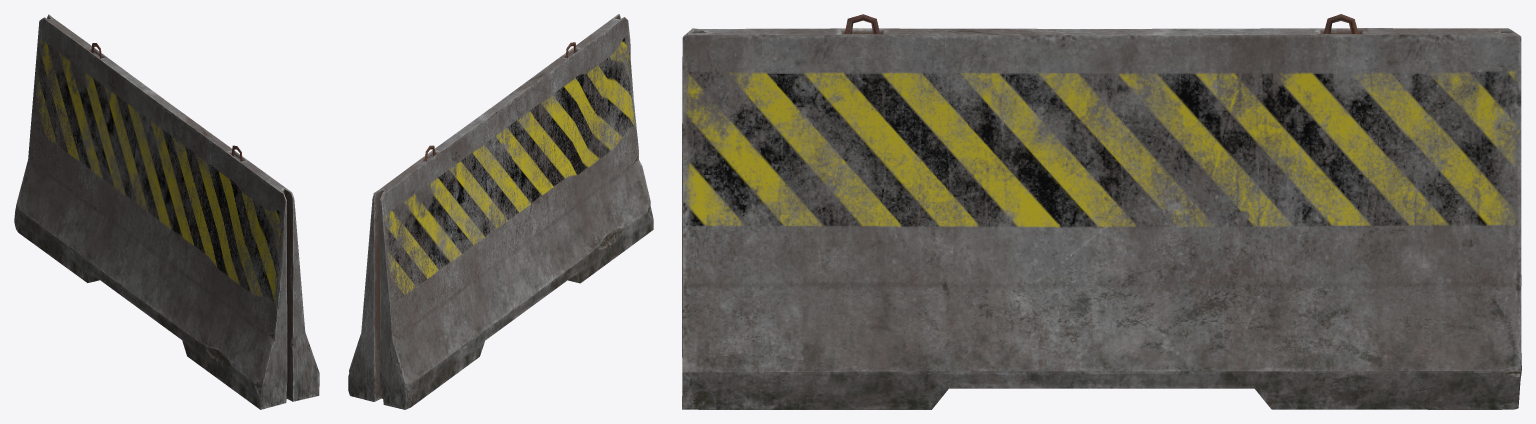
Rendered from concrete fence.fbx.
3 views of the same model, side by side, from view 1: azimuth 30°, elevation 25°; view 2: azimuth 150°, elevation 25°; view 3: azimuth 270°, elevation 25° (orthographic). The views are drawn at different scales.
Parts seen in each view (by area): view 1: LP1; view 2: LP1; view 3: LP1.
Part boxes in pixels (<box>): LP1: <box>14,14,319,409</box>; LP1: <box>348,14,653,409</box>; LP1: <box>682,14,1521,409</box>.
Size of the model in its own units: 323 by 1130 by 2315.
Materials: 1 (1 with a texture image).
